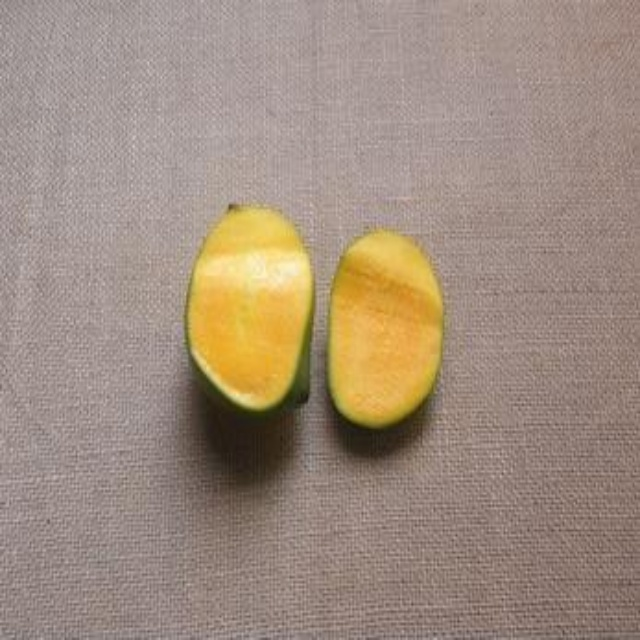mango: (187, 209, 440, 437)
